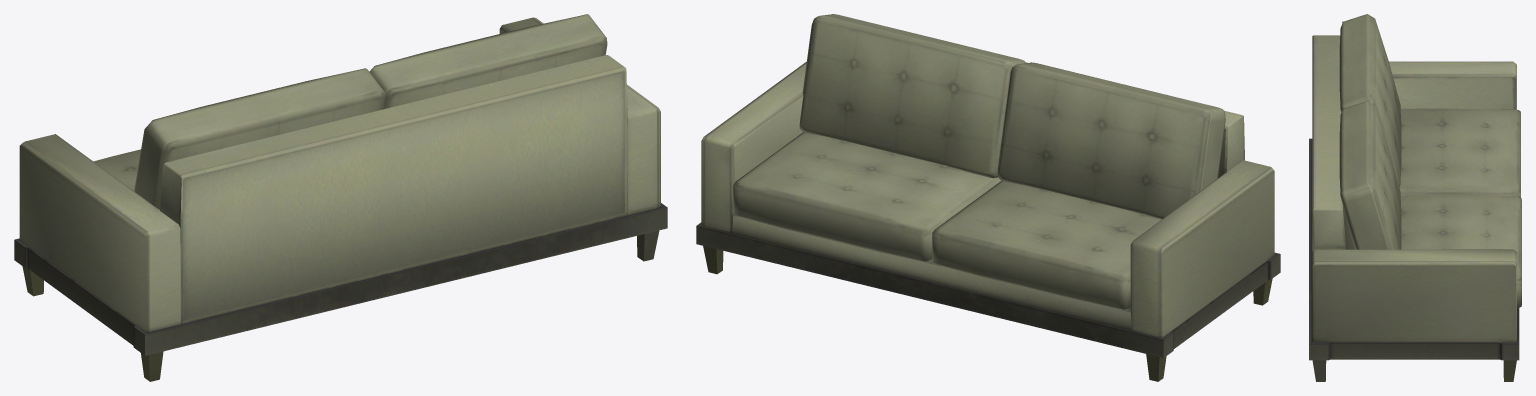
File: sillon.obj
3 views of the same model, side by side, from view 1: azimuth 30°, elevation 25°; view 2: azimuth 150°, elevation 25°; view 3: azimuth 270°, elevation 25° (orthographic). The views are drawn at different scales.
Parts seen in each view (by area): view 1: sillon; view 2: sillon; view 3: sillon.
Boxes of the visible parts, box(x1,y1,x2,y2) form: sillon: box(14, 14, 667, 381); sillon: box(696, 14, 1280, 381); sillon: box(1309, 14, 1521, 381).
Bounding box in the file's own units: 161 × 67.33 × 70.45.
1 material, 1 textured.
